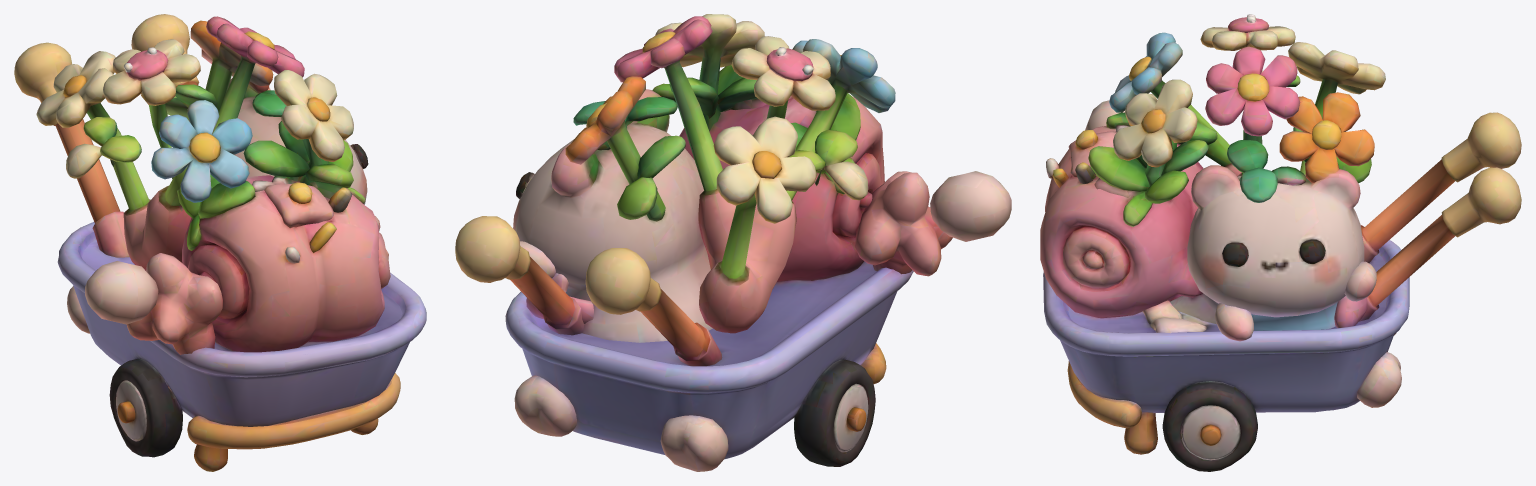
Rendered from snail-wheelbarrow.glb.
3 renders of one model, left to right at view 1: azimuth 30°, elevation 25°; view 2: azimuth 150°, elevation 25°; view 3: azimuth 270°, elevation 25°, orthographic. The views are drawn at different scales.
Visible parts, largest first — view 1: tripo_node_207ee37d-5b89-47d5-8207-0ddd87f70e43; view 2: tripo_node_207ee37d-5b89-47d5-8207-0ddd87f70e43; view 3: tripo_node_207ee37d-5b89-47d5-8207-0ddd87f70e43.
Boxes of the visible parts, x1,y1,x2,y2 form: tripo_node_207ee37d-5b89-47d5-8207-0ddd87f70e43: (14,14,426,471); tripo_node_207ee37d-5b89-47d5-8207-0ddd87f70e43: (455,14,1011,471); tripo_node_207ee37d-5b89-47d5-8207-0ddd87f70e43: (1040,14,1521,471).
Size of the model in its own units: 0.8144 by 0.8497 by 0.998.
1 material, 1 textured.
